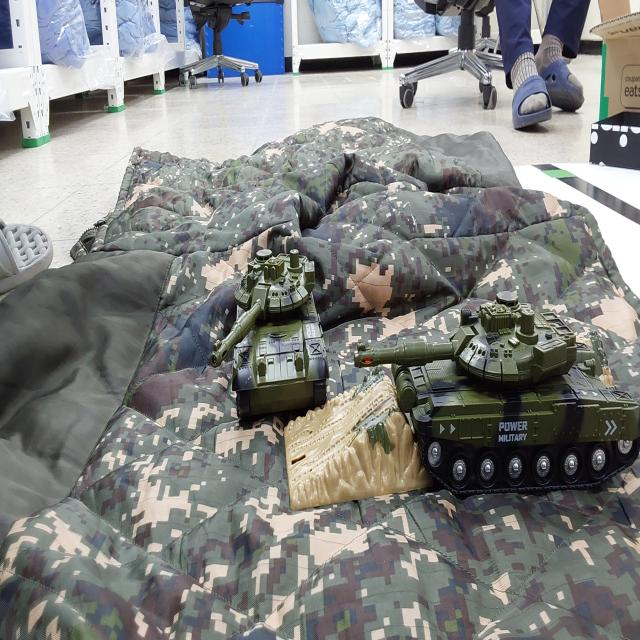enem_tank: (354, 292, 640, 494), (210, 250, 328, 417)
